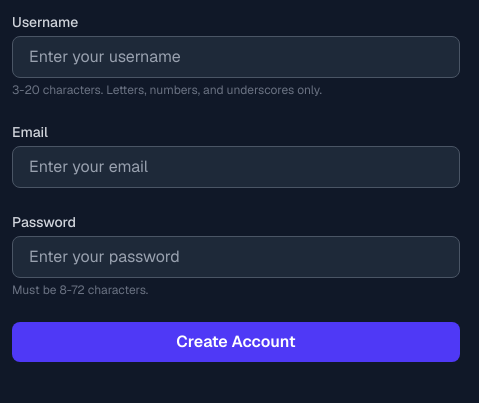
Test: RegisterForm › shows error for short password
The width and height of the screenshot is (479, 403).
Type "validuser" into the field labelled "Username". click: (236, 57)
box: [12, 36, 460, 78]
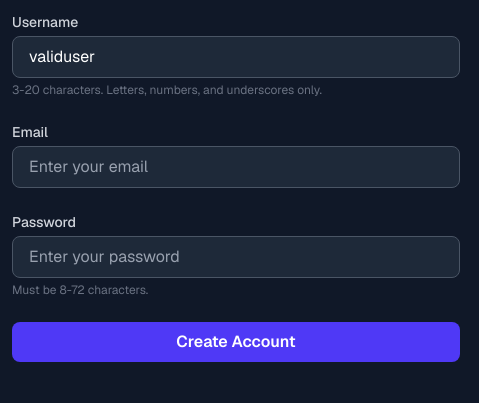
Type "user@example.com" into the field labelled "Email". click: (236, 167)
box: [12, 146, 460, 188]
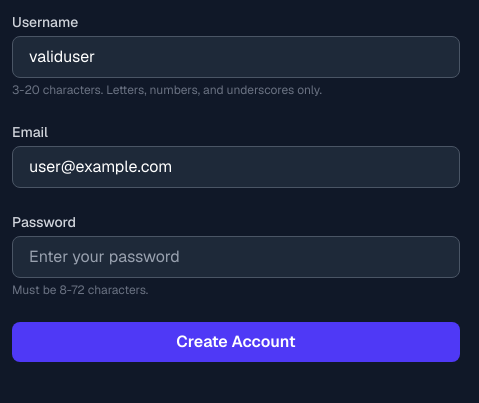
Type "short" into the password field labelled "Password". click: (236, 257)
box: [12, 236, 460, 278]
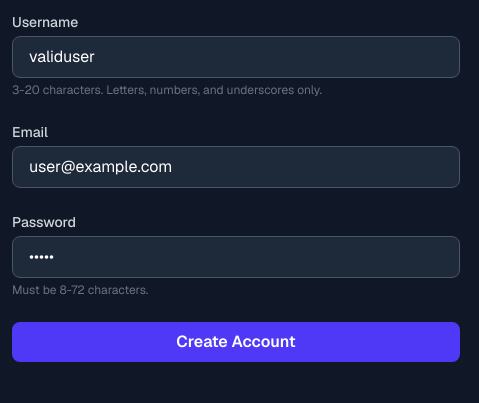
Click the button "Create Account". click: (236, 342)
box: [12, 322, 460, 362]
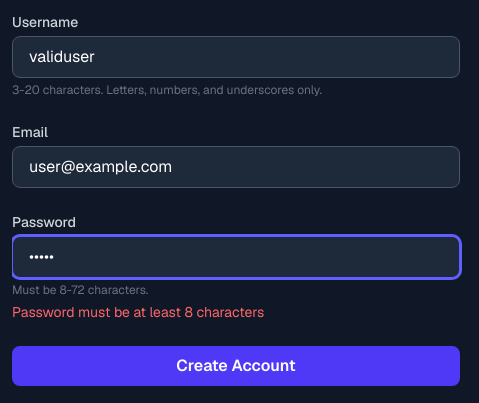
Expected: the text "Password must be at least 8 characters" is shown, [12, 303, 264, 321]
